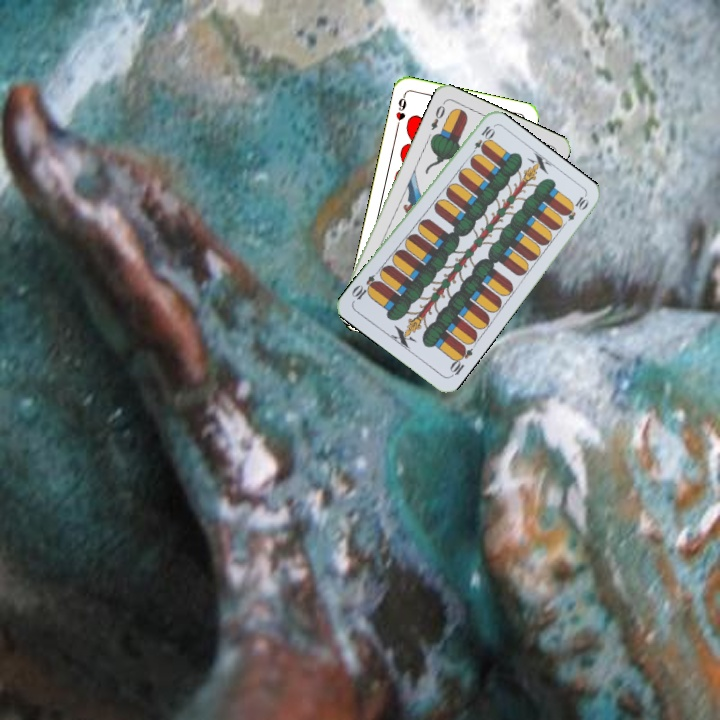E10: (445, 341, 475, 380), (466, 122, 496, 159)
EO: (427, 101, 448, 133)
H9: (392, 90, 409, 131)
